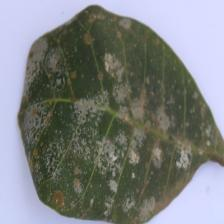red rust: (17, 4, 224, 223)
